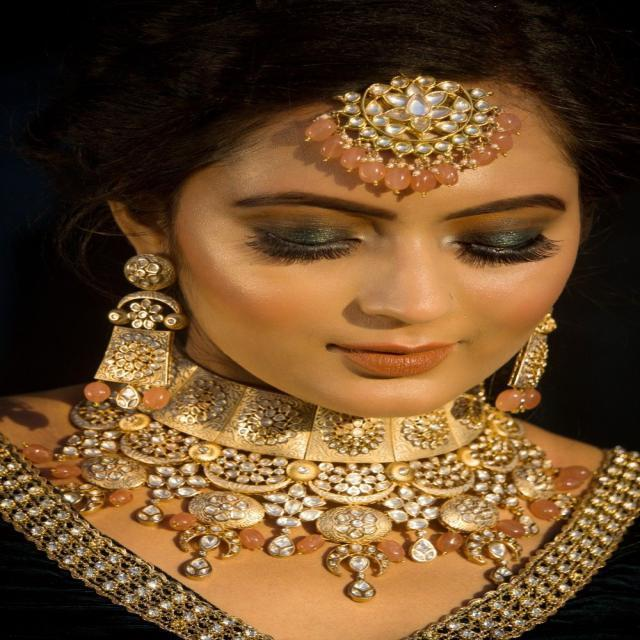Earring: (88, 249, 200, 423), (502, 304, 558, 428)
